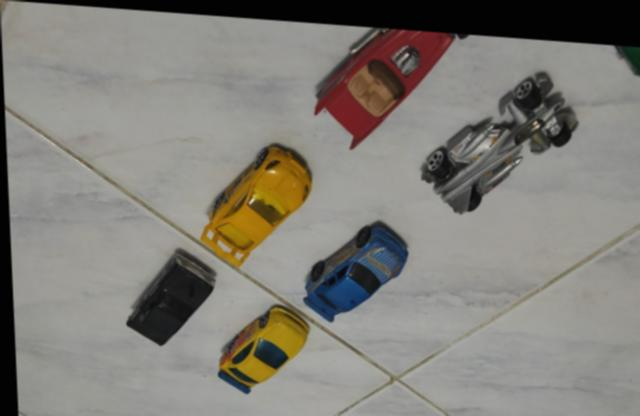01_FORD: (122, 248, 215, 344)
02_OZSOME: (213, 300, 309, 392)
03_V8: (312, 22, 471, 145)
04_MERZEDES: (301, 213, 407, 317)
05_DC121: (418, 62, 580, 206)
06_MASERATI: (612, 36, 640, 65)
07_RHLTURBO: (197, 138, 313, 266)
